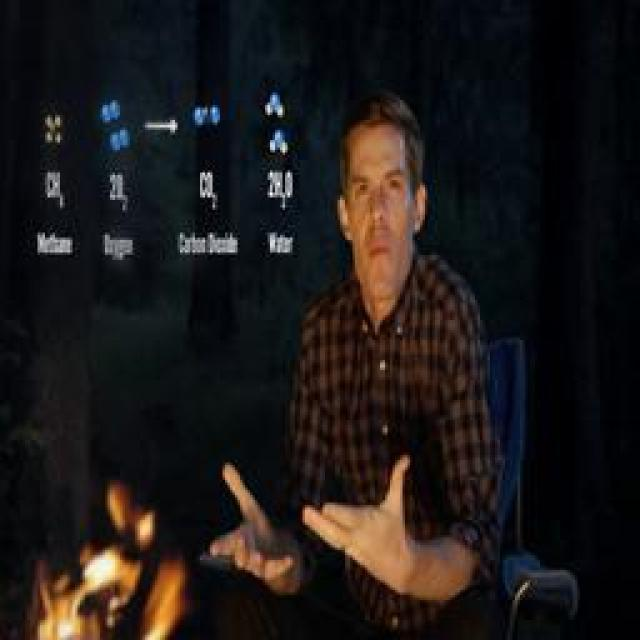Fire: (35, 487, 185, 640), (142, 560, 188, 640)
